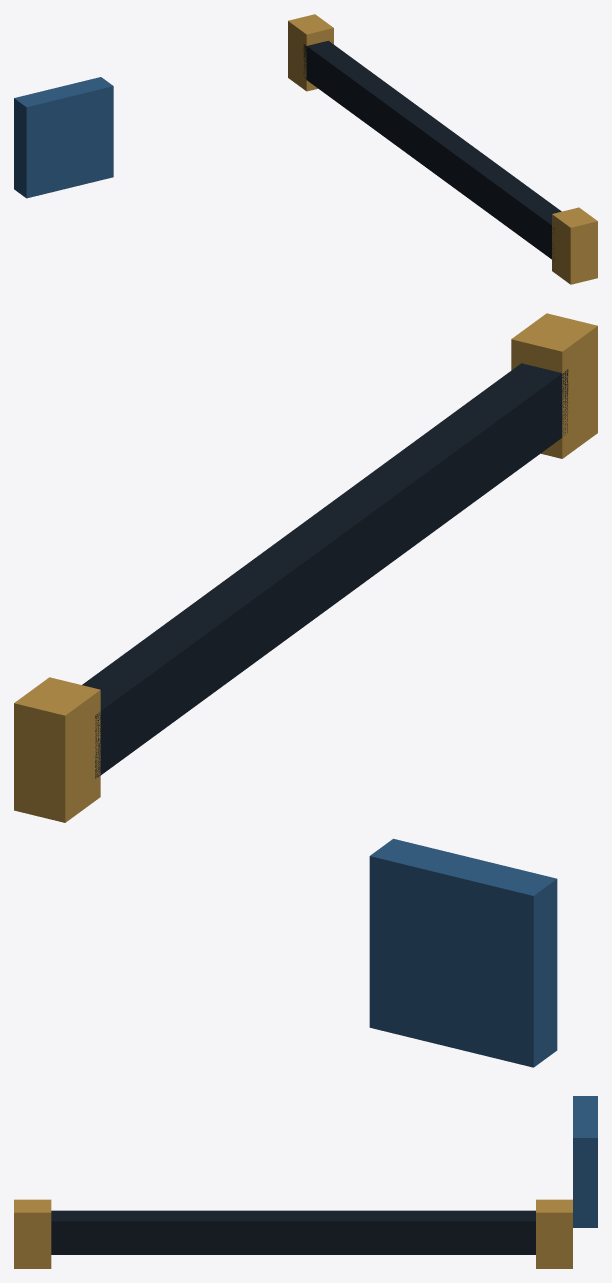
File: pellet_level.obj
The picture shows the model from 3 angles, top to bottom: view 1: azimuth 30°, elevation 25°; view 2: azimuth 150°, elevation 25°; view 3: azimuth 270°, elevation 25°; orthographic projection. The views are drawn at different scales.
Parts seen in each view (by area): view 1: pellet_level; view 2: pellet_level; view 3: pellet_level.
Part boxes in pixels (x1,y1,x2,y2): pellet_level: (14, 14, 597, 284); pellet_level: (14, 313, 597, 1067); pellet_level: (14, 1096, 597, 1268).
Size of the model in its own units: 0.53 by 0.2 by 0.94.
